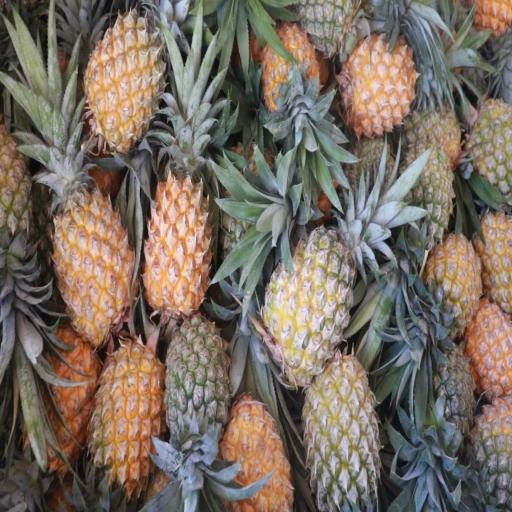------------------------------: (266, 234, 349, 378), (304, 359, 378, 512)
Pineapple - v8 v1: (55, 161, 130, 329), (91, 345, 164, 491), (87, 9, 164, 143), (144, 172, 212, 320), (30, 332, 98, 469), (220, 398, 290, 511), (344, 36, 415, 132), (259, 28, 320, 124), (428, 234, 480, 330)
